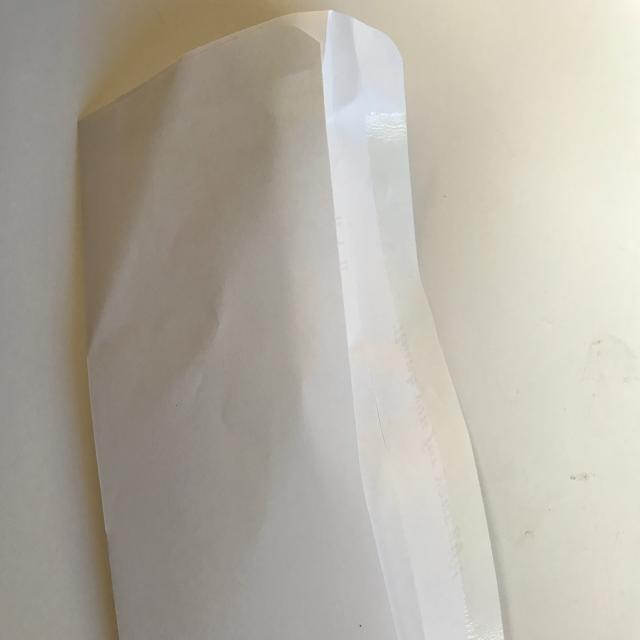paper: (59, 0, 524, 640)
